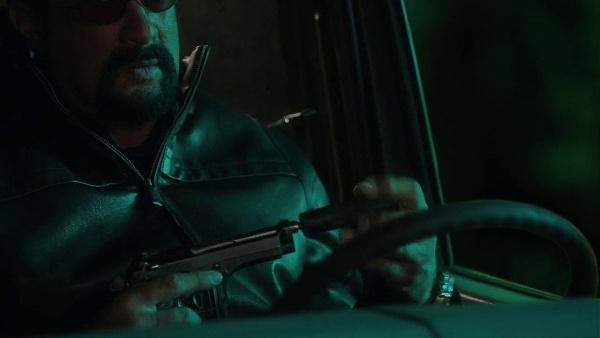Gun: (125, 199, 401, 309)
